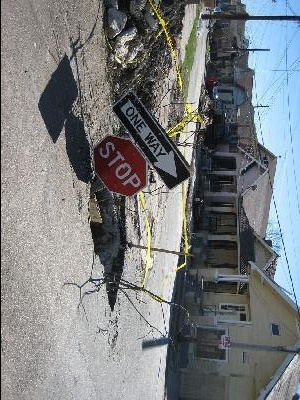pothole: (85, 169, 132, 315)
